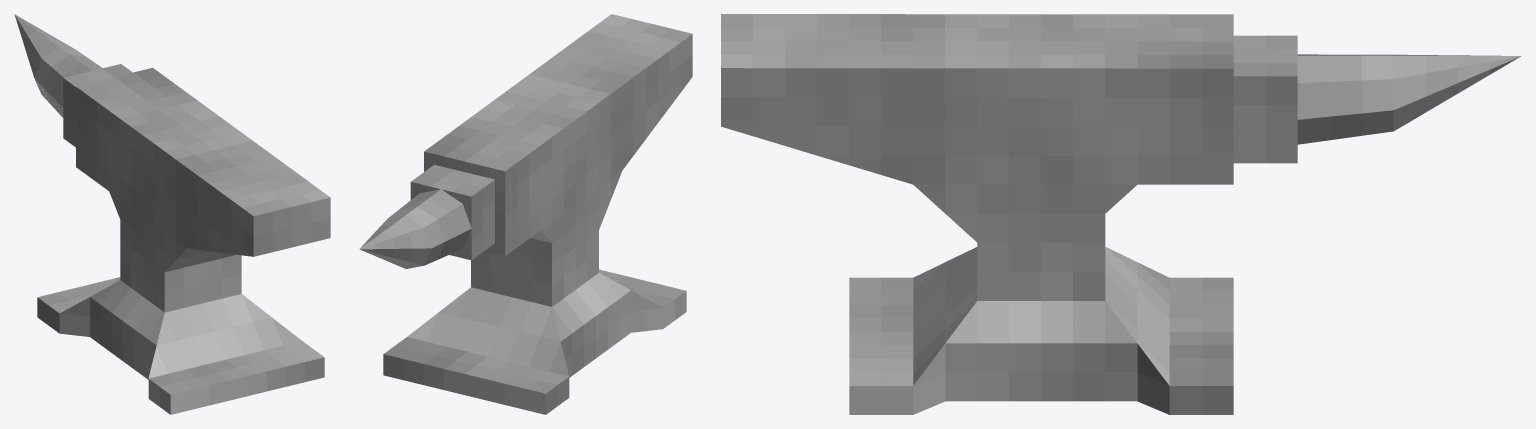
The model's file is anvil_iron.obj.
3 renders of one model, left to right at view 1: azimuth 30°, elevation 25°; view 2: azimuth 150°, elevation 25°; view 3: azimuth 270°, elevation 25°, orthographic. The views are drawn at different scales.
Visible parts, largest first — view 1: Left, Top, Back; view 2: Left, Top, Front; view 3: Right, Top, Front, Back.
Boxes of the visible parts, x1,y1,x2,y2 form: Left: (15,15,253,414); Top: (14,14,330,394); Back: (148,197,330,414); Left: (360,34,692,414); Top: (360,14,692,393); Front: (383,151,569,414); Right: (721,56,1520,414); Top: (721,14,1520,385); Front: (1105,247,1169,385); Back: (913,247,977,385).
Size of the model in its own units: 0.5 by 0.6885 by 1.56.
